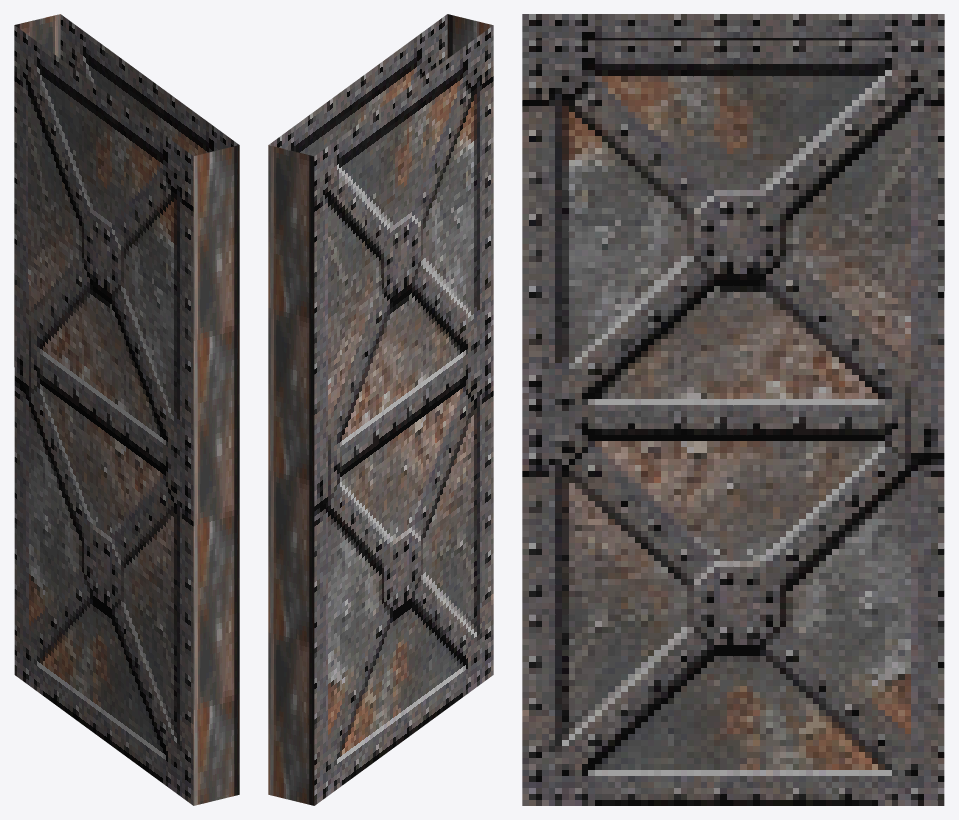
The model's file is primary_198.glb.
3 views of the same model, side by side, from view 1: azimuth 30°, elevation 25°; view 2: azimuth 150°, elevation 25°; view 3: azimuth 270°, elevation 25° (orthographic). The views are drawn at different scales.
Parts seen in each view (by area): view 1: Object; view 2: Object; view 3: Object.
Part boxes in pixels (x1,y1,x2,y2): Object: (14,14,239,805); Object: (268,14,493,805); Object: (522,14,944,805).
Size of the model in its own units: 0.1785 by 2.41 by 1.21.
9 materials, 9 textured.
